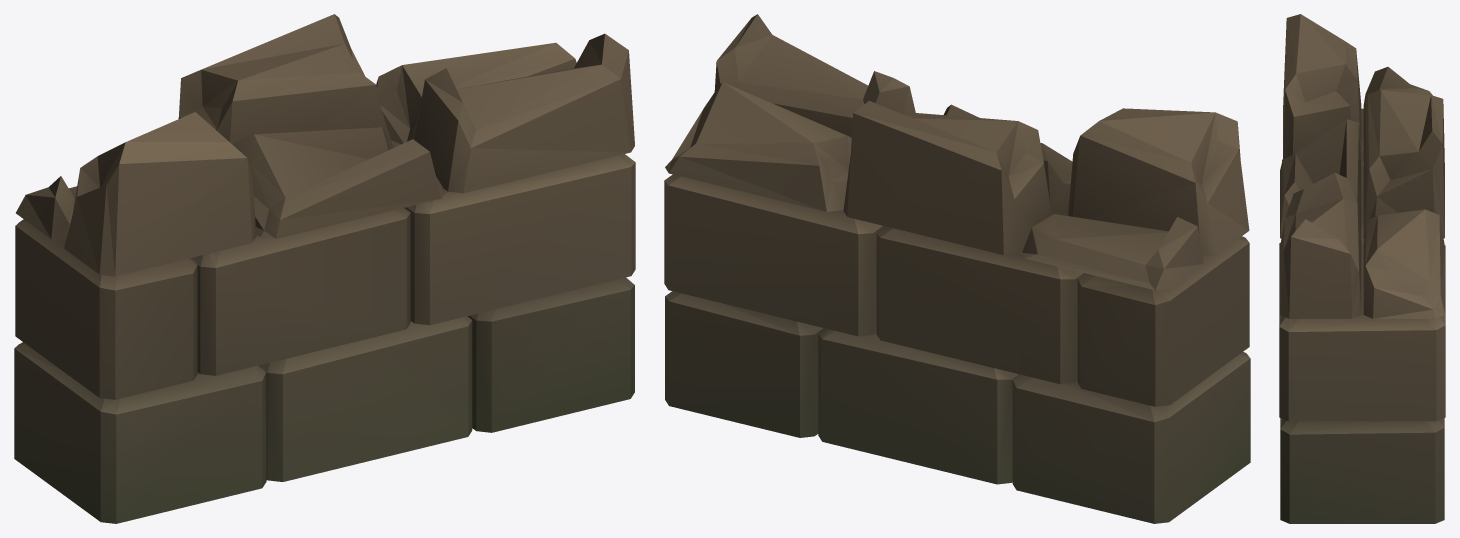
Rendered from skyreach-windwall-v1.glb.
3 renders of one model, left to right at view 1: azimuth 30°, elevation 25°; view 2: azimuth 150°, elevation 25°; view 3: azimuth 270°, elevation 25°, orthographic. The views are drawn at different scales.
Visible parts, largest first — view 1: GB_WINDWALL_STONE; view 2: GB_WINDWALL_STONE; view 3: GB_WINDWALL_STONE.
Part boxes in pixels (x1,y1,x2,y2): GB_WINDWALL_STONE: (14, 14, 635, 523); GB_WINDWALL_STONE: (664, 14, 1250, 523); GB_WINDWALL_STONE: (1279, 14, 1445, 523).
Bounding box in the file's own units: 2.99 × 1.97 × 0.9718.
